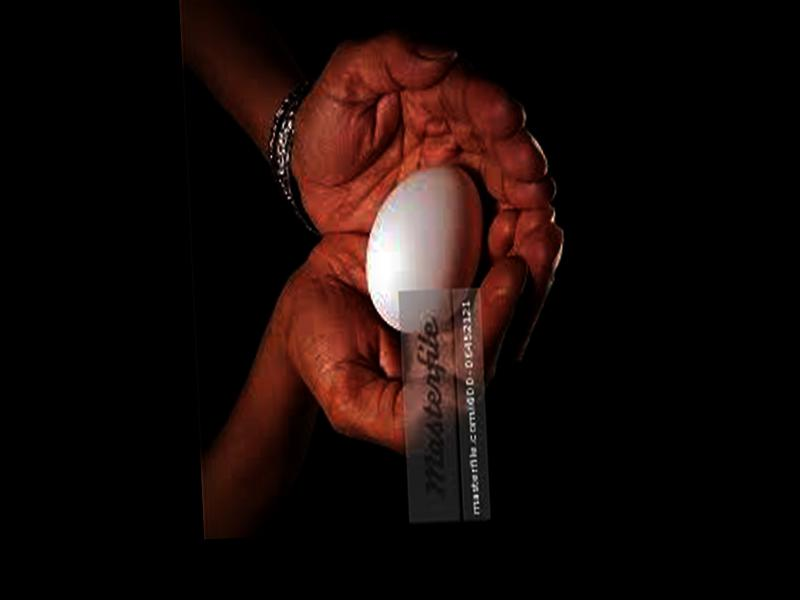Eggs: (361, 162, 490, 334)
